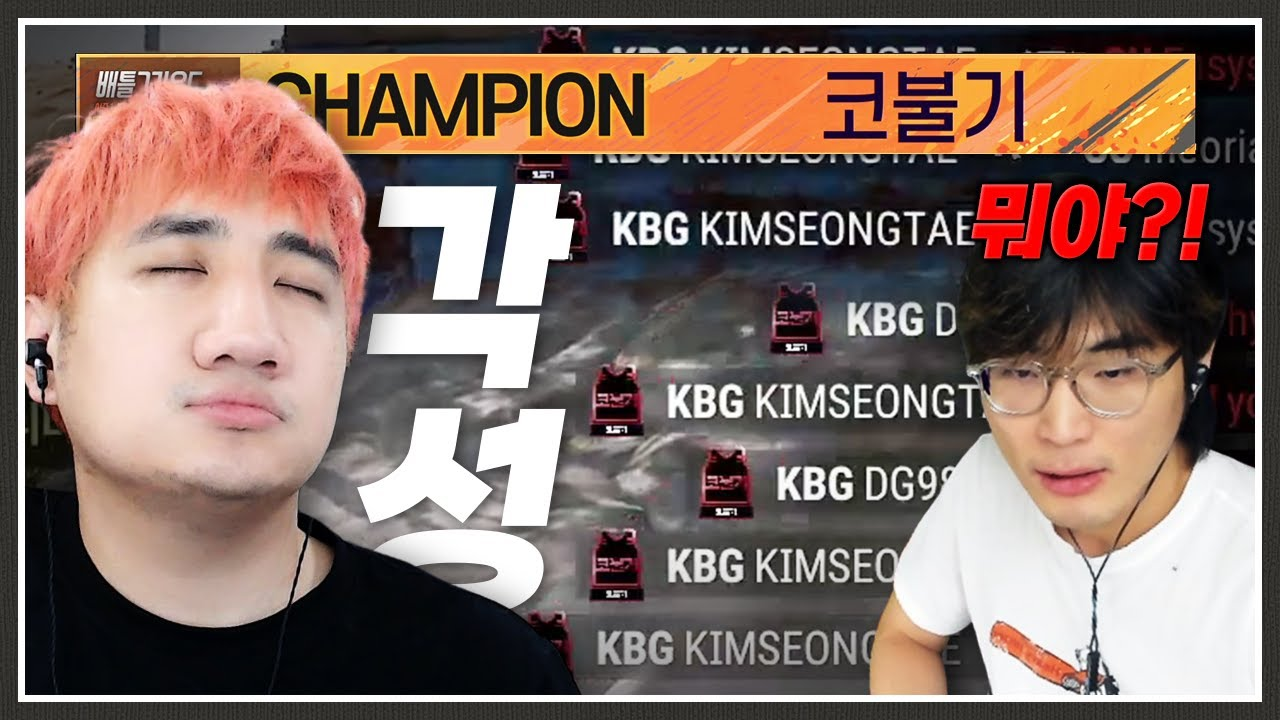각성: (355, 179, 577, 614)
